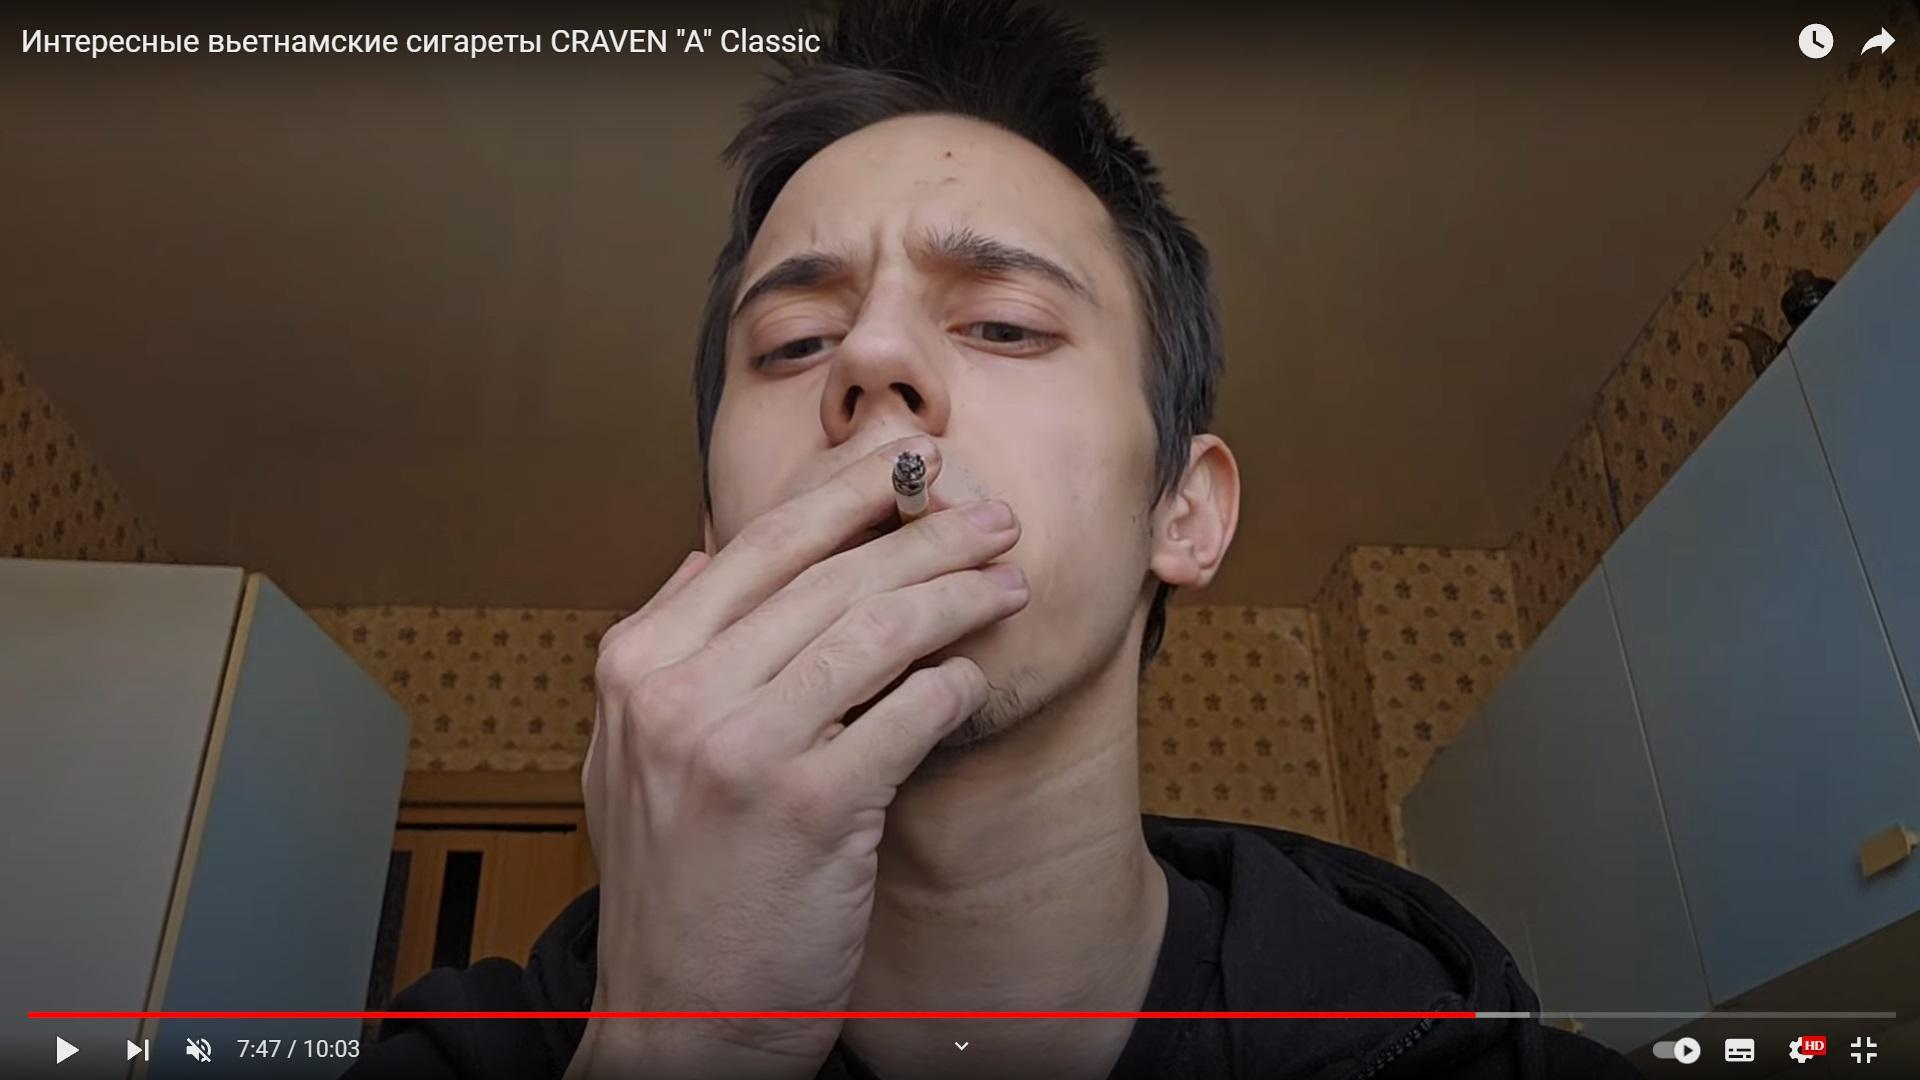cigarette: (891, 450, 931, 526)
